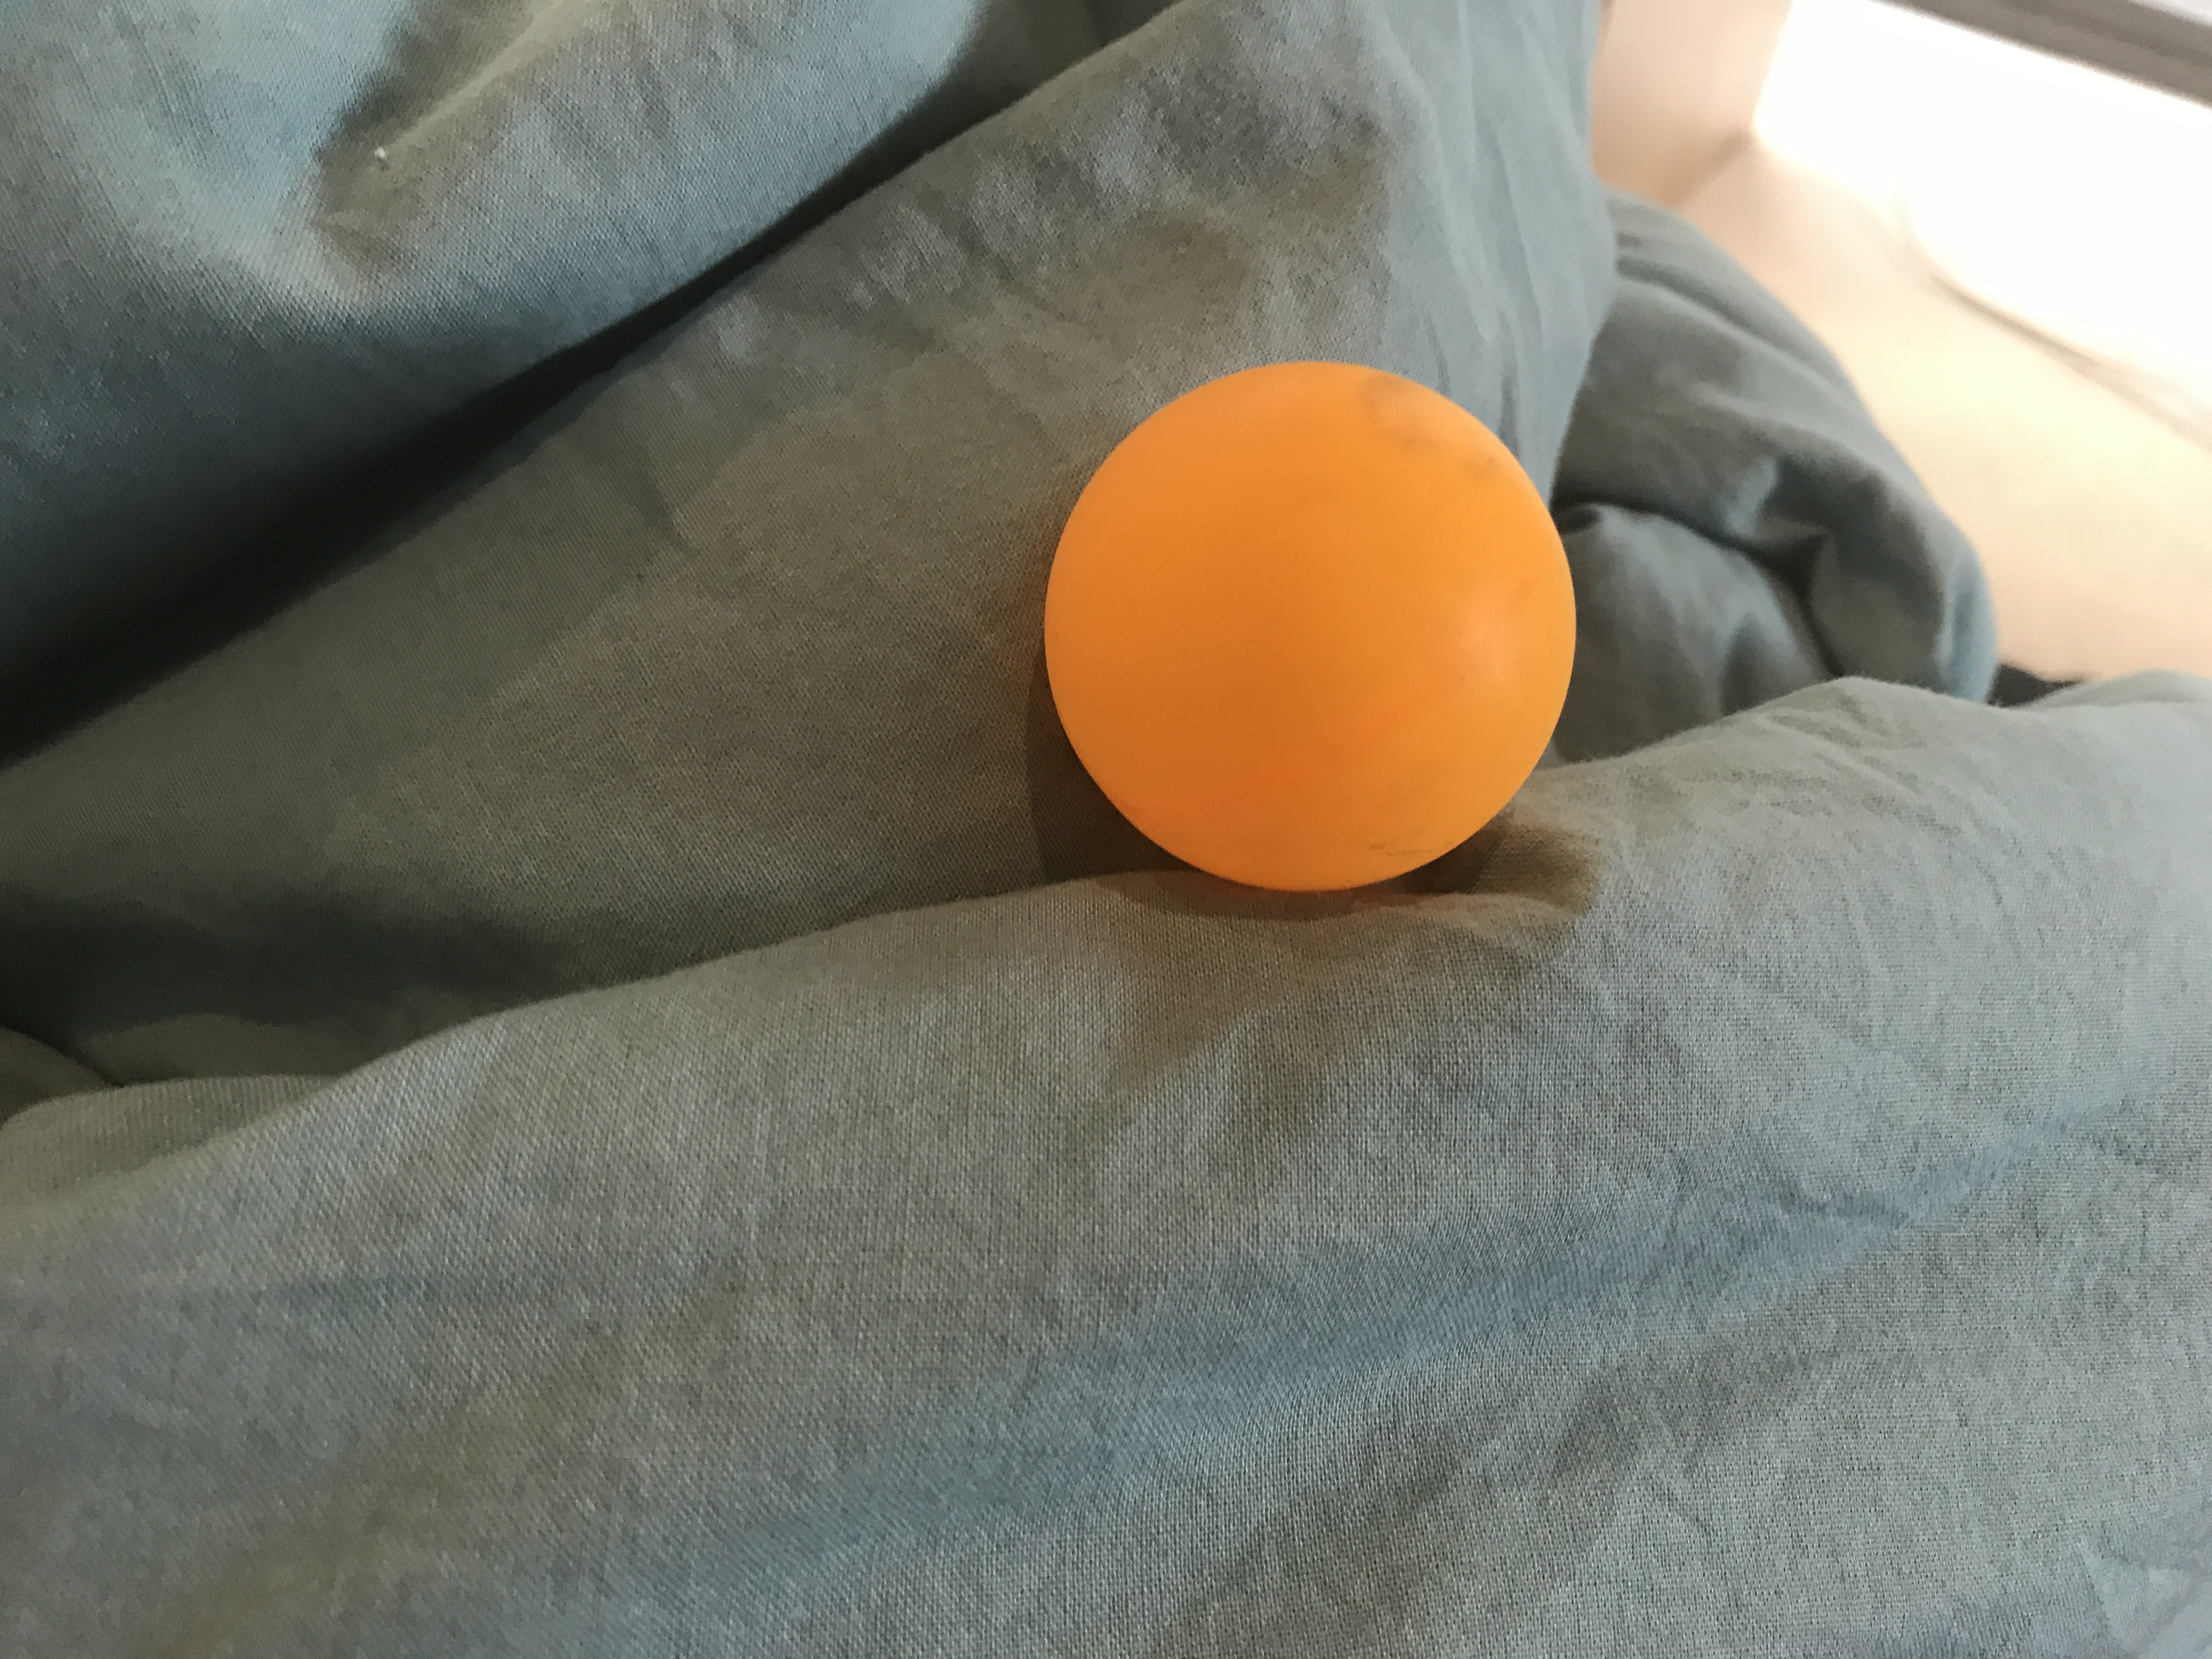pp: (1038, 361, 1576, 894)
